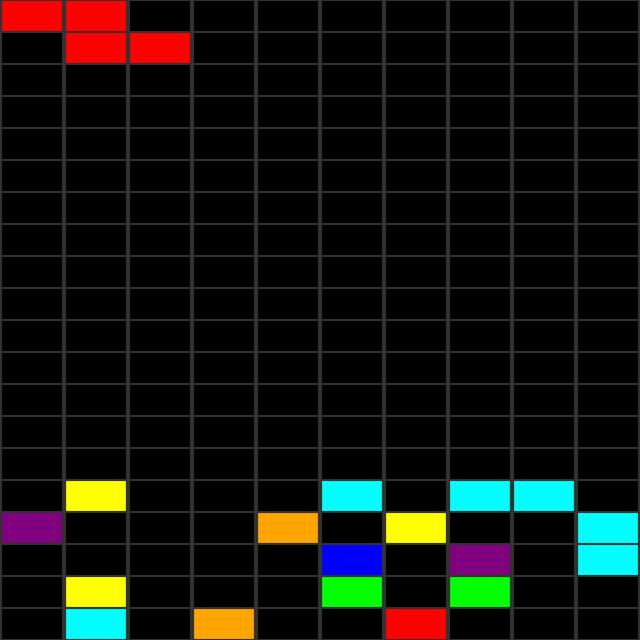Tetrimino_T: (0, 0, 190, 62)
